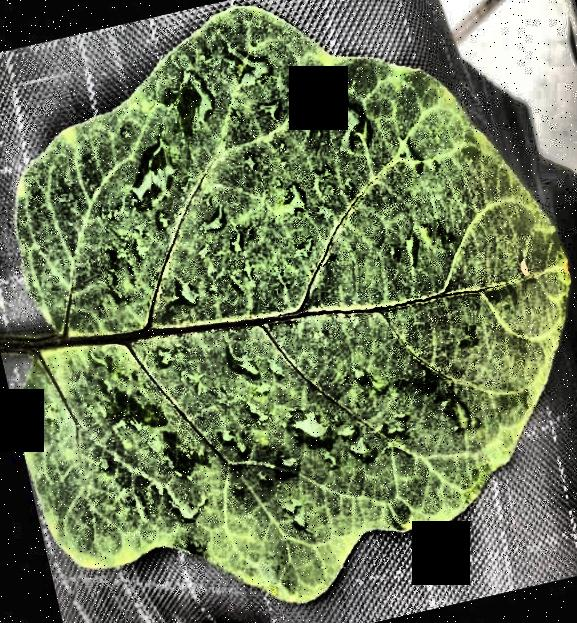Non-critical Stress: (0, 1, 577, 623)
